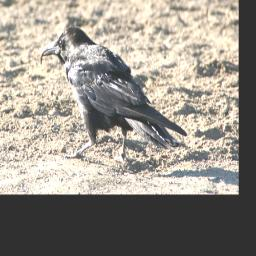Crow: (39, 24, 189, 170)
